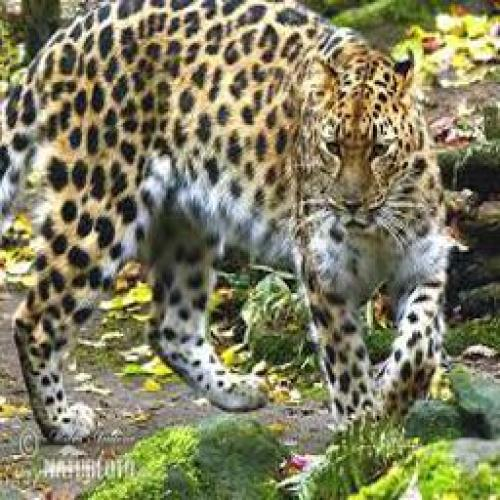amur_leopard-endangered: (0, 3, 447, 330)
